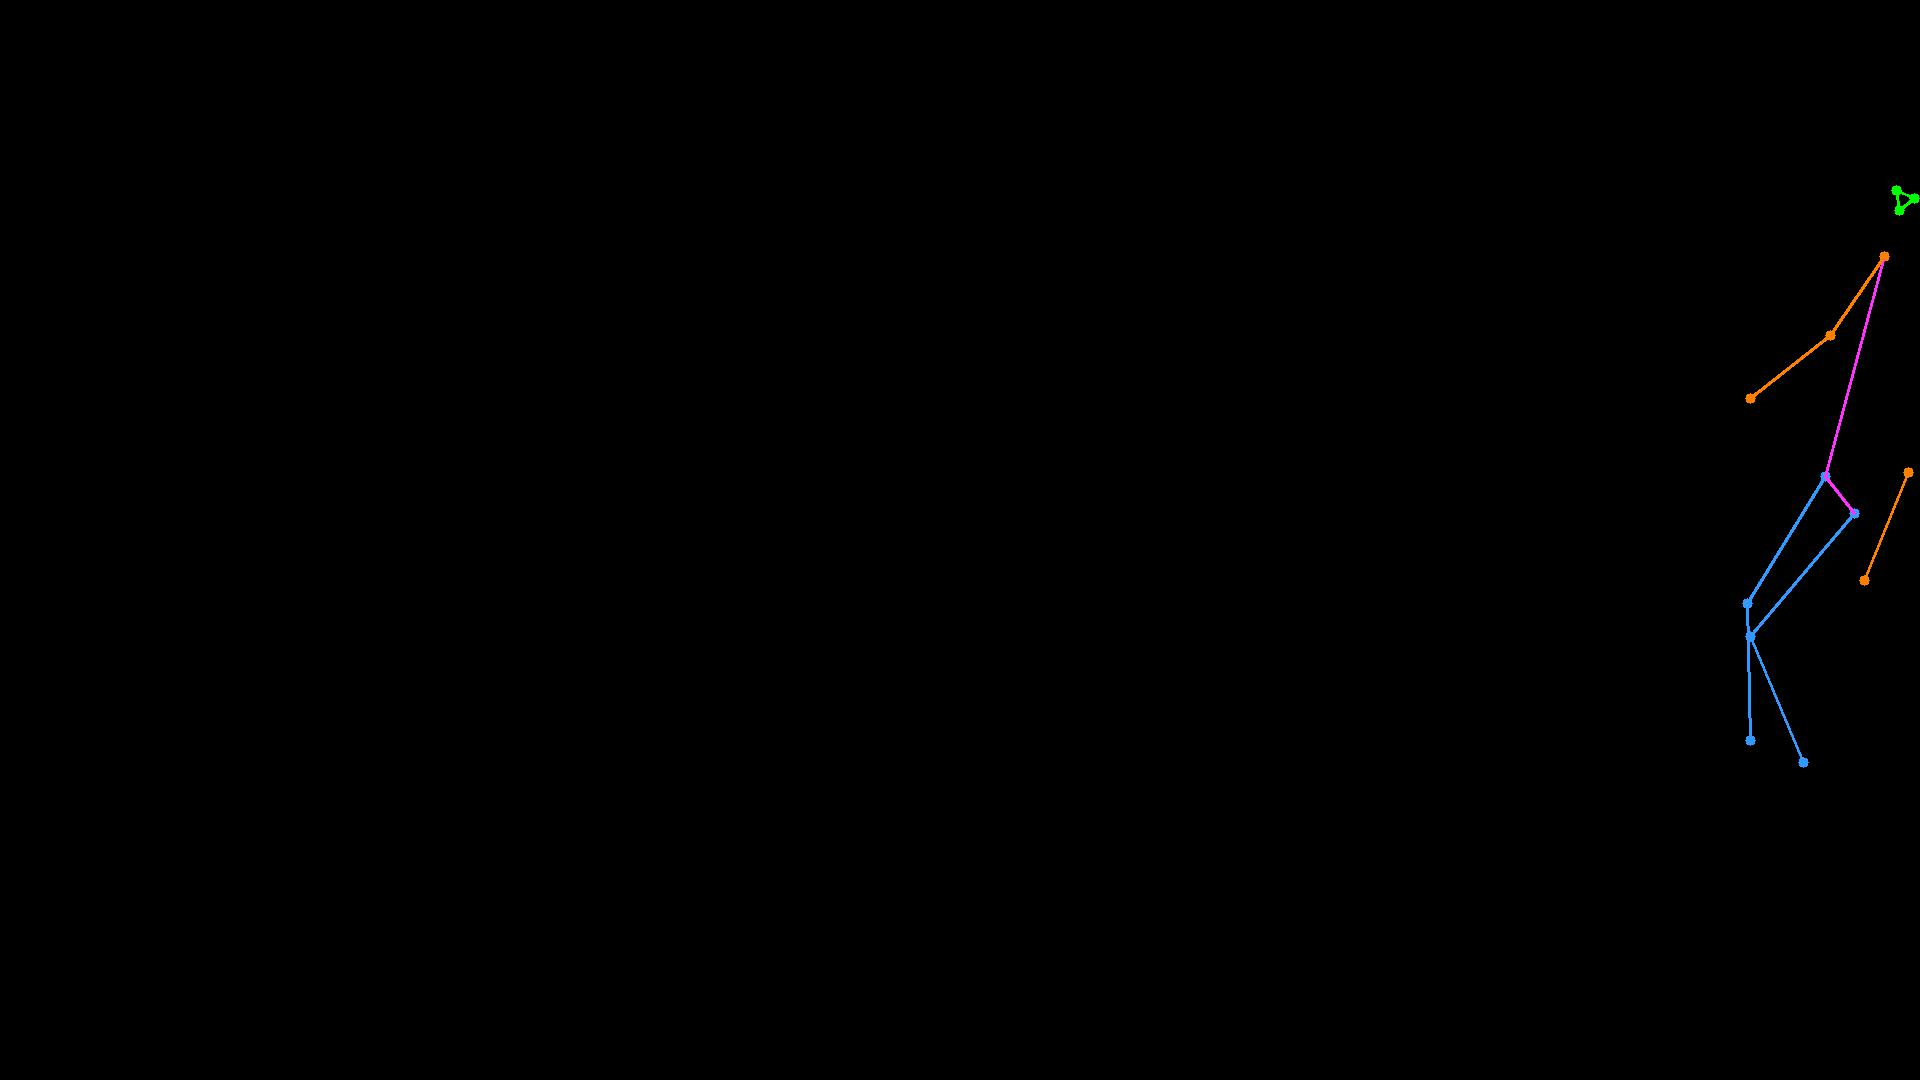normal: (1681, 160, 1920, 804)
